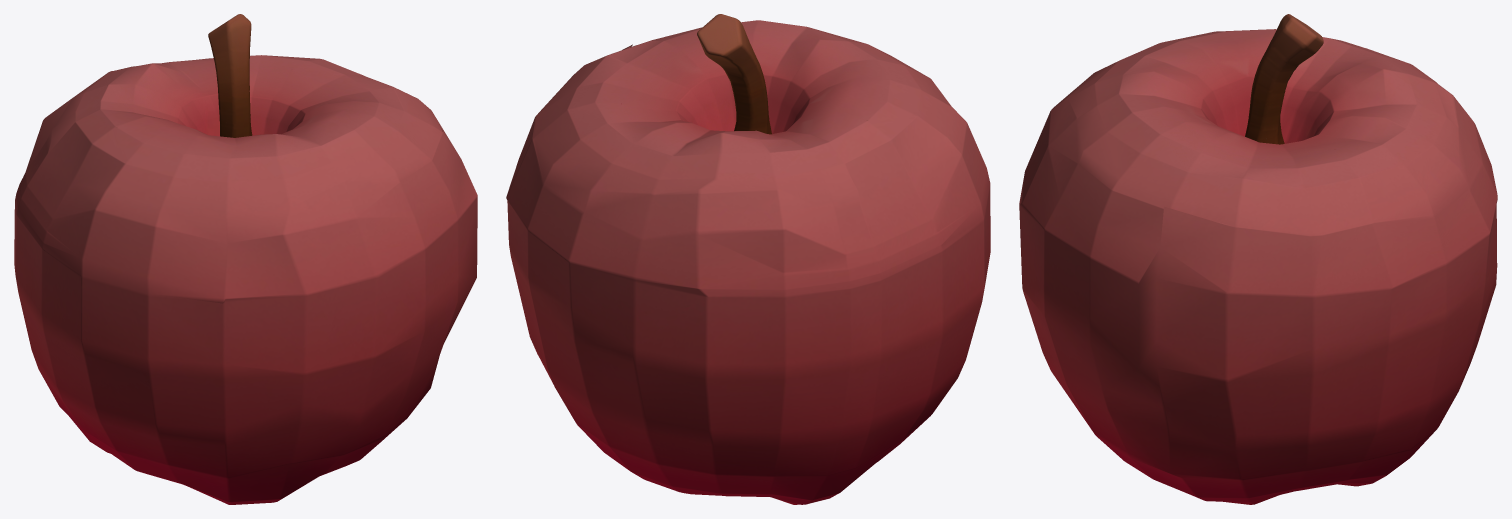
The model's file is apple.glb.
The picture shows the model from 3 angles, left to right: view 1: azimuth 30°, elevation 25°; view 2: azimuth 150°, elevation 25°; view 3: azimuth 270°, elevation 25°; orthographic projection. The views are drawn at different scales.
Parts seen in each view (by area): view 1: tripo_node_16790262-5482-4609-aa4b-1e309e5ab2da; view 2: tripo_node_16790262-5482-4609-aa4b-1e309e5ab2da; view 3: tripo_node_16790262-5482-4609-aa4b-1e309e5ab2da.
Part boxes in pixels (left/top/right/bottom): tripo_node_16790262-5482-4609-aa4b-1e309e5ab2da: left=14, top=14, right=477, bottom=504; tripo_node_16790262-5482-4609-aa4b-1e309e5ab2da: left=506, top=14, right=990, bottom=504; tripo_node_16790262-5482-4609-aa4b-1e309e5ab2da: left=1019, top=14, right=1497, bottom=504.
Bounding box in the file's own units: 0.939 × 0.9995 × 0.939.
1 material, 1 textured.
